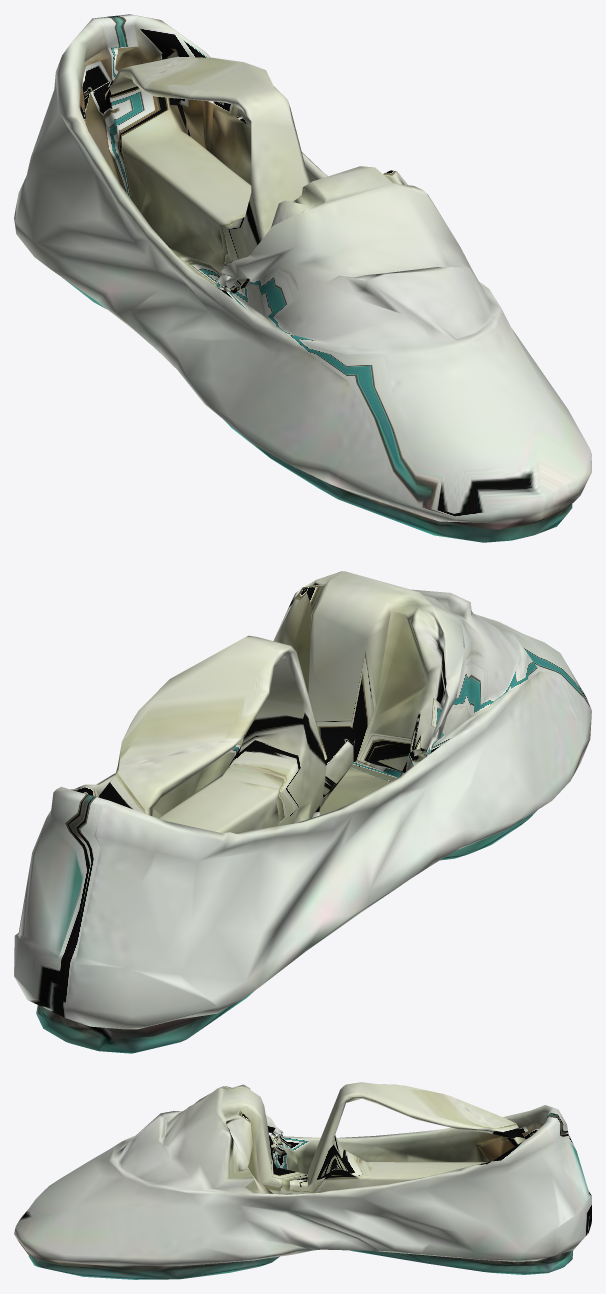
The model's file is gso_tieks_ballet_flats_diamond_white_croc.glb.
The picture shows the model from 3 angles, top to bottom: view 1: azimuth 30°, elevation 25°; view 2: azimuth 150°, elevation 25°; view 3: azimuth 270°, elevation 25°; orthographic projection. The views are drawn at different scales.
Parts seen in each view (by area): view 1: z-up-to-y-up; view 2: z-up-to-y-up; view 3: z-up-to-y-up.
Part boxes in pixels (x1,y1,x2,y2): z-up-to-y-up: (14,14,591,542); z-up-to-y-up: (14,571,591,1053); z-up-to-y-up: (14,1082,591,1279).
Bounding box in the file's own units: 0.0837 × 0.0786 × 0.2436.
1 material, 1 textured.
